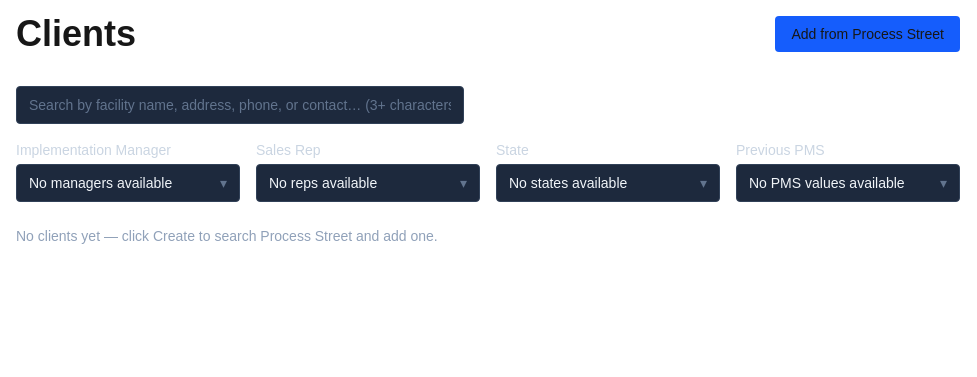
Scenario: ClientsPage › ignores an older directory answer that arrives after a newer one
Step 1. Type "abc" into the field with placeholder "Search by facility" → (240, 105), box [16, 86, 464, 124]
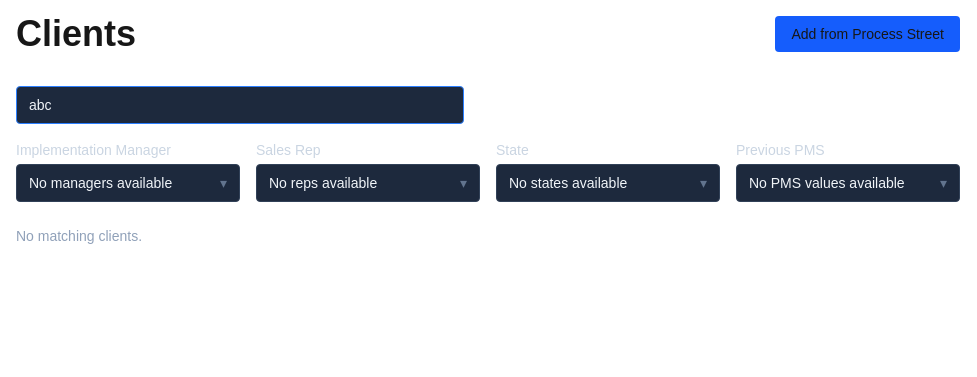
Step 2. Type "d" into the field with placeholder "Search by facility" → (240, 105), box [16, 86, 464, 124]
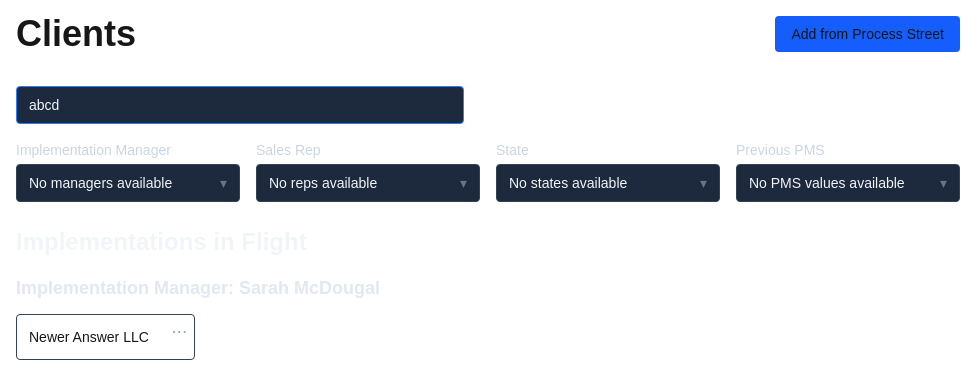
Result: the link "Newer Answer LLC" is shown at [16, 314, 195, 360]
